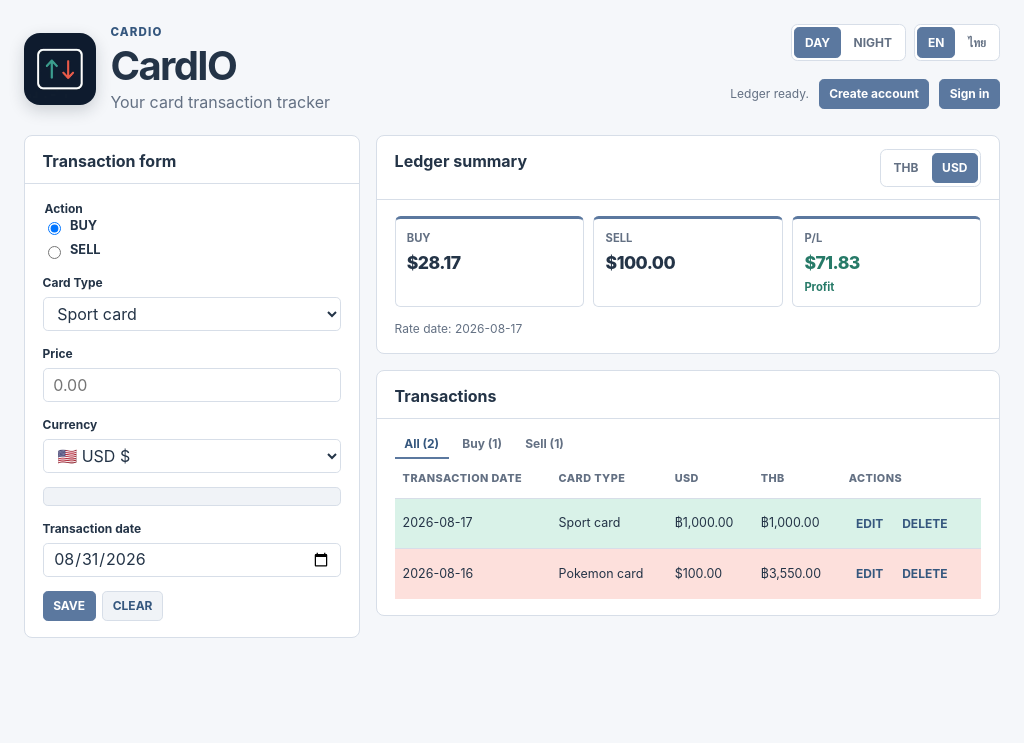
Test: App › shows only the sign-in panel when sign in is clicked from create account
Check: the heading "CardIO" is shown, box 110,41 -> 236,90
Click the button "Create account" at (874, 94), box 818,79 -> 930,109
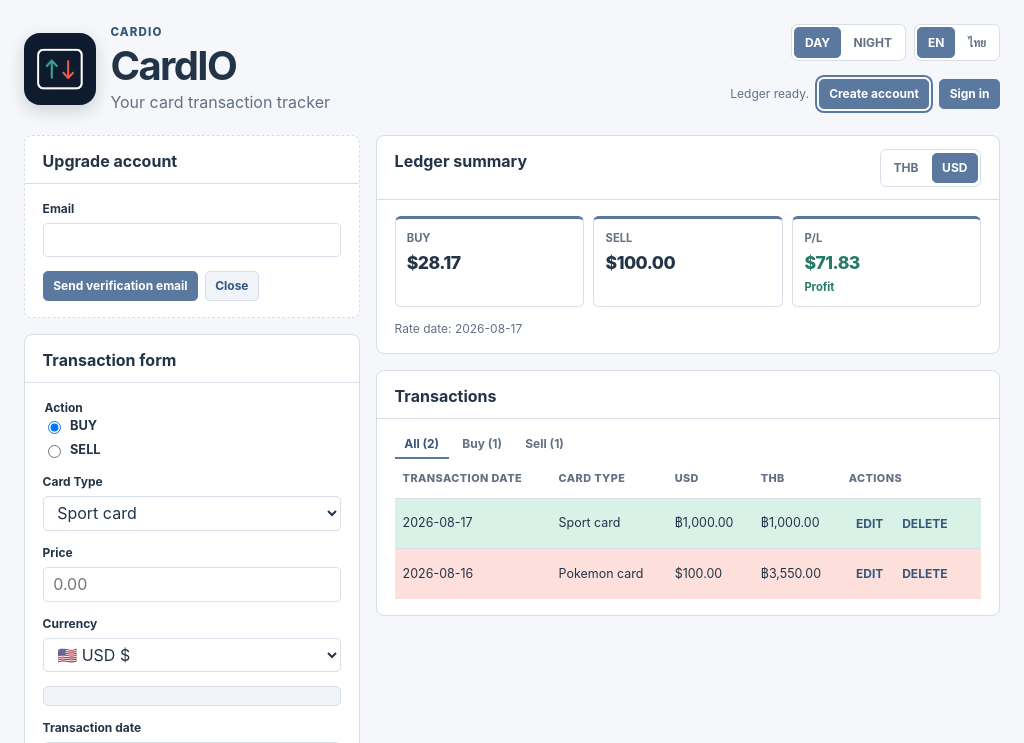
Check: the element "Upgrade account" is shown, box 24,135 -> 360,318
Click the button "Sign in" at (970, 94), box 939,79 -> 1000,109
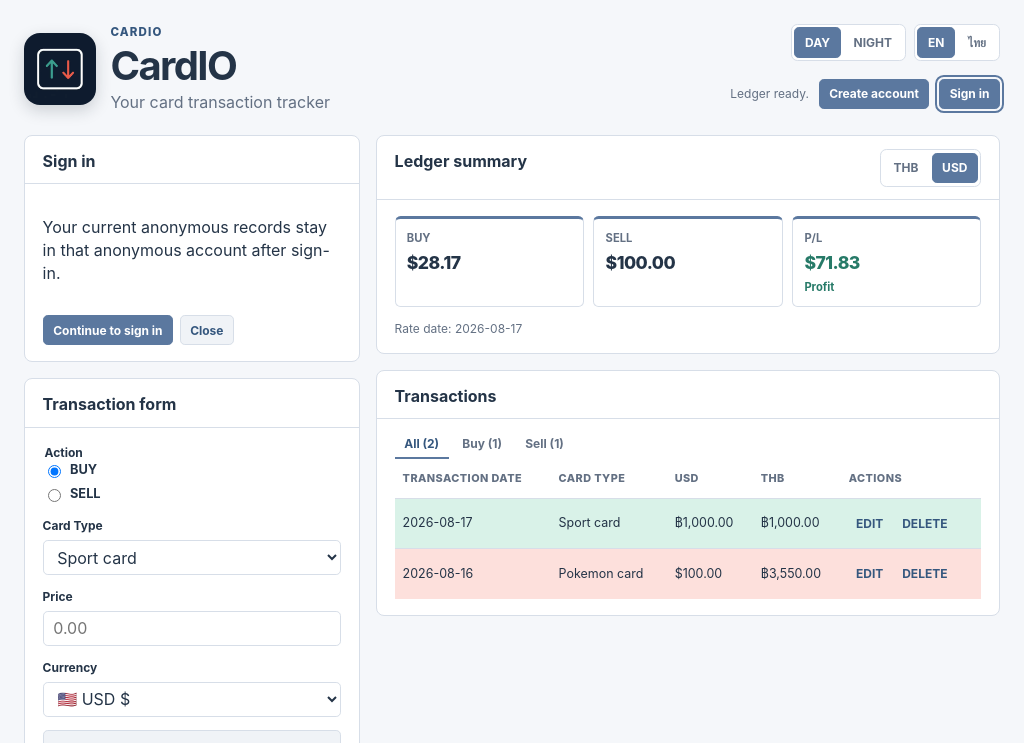
Check: the element "Sign in" is shown, box 24,135 -> 360,362
Check: the heading "Upgrade account" is gone
